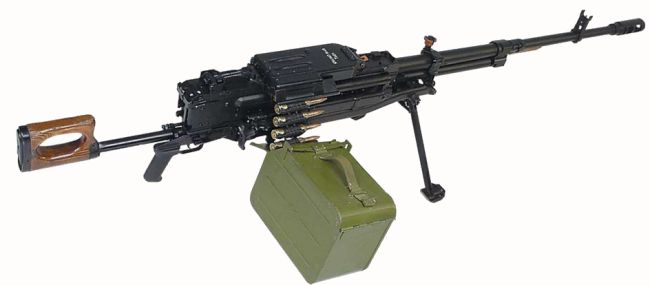rifle: (13, 8, 644, 229)
